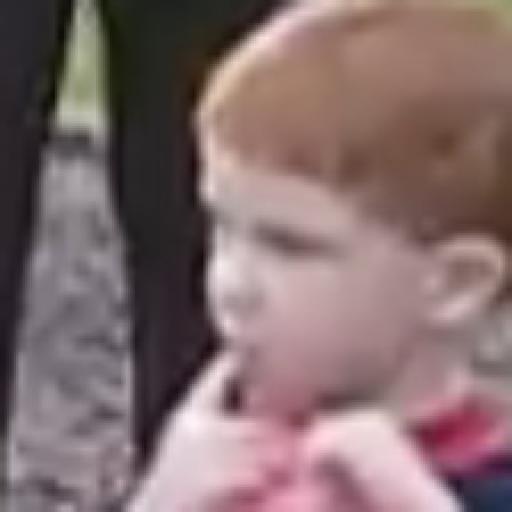Autism: (176, 64, 510, 512)
